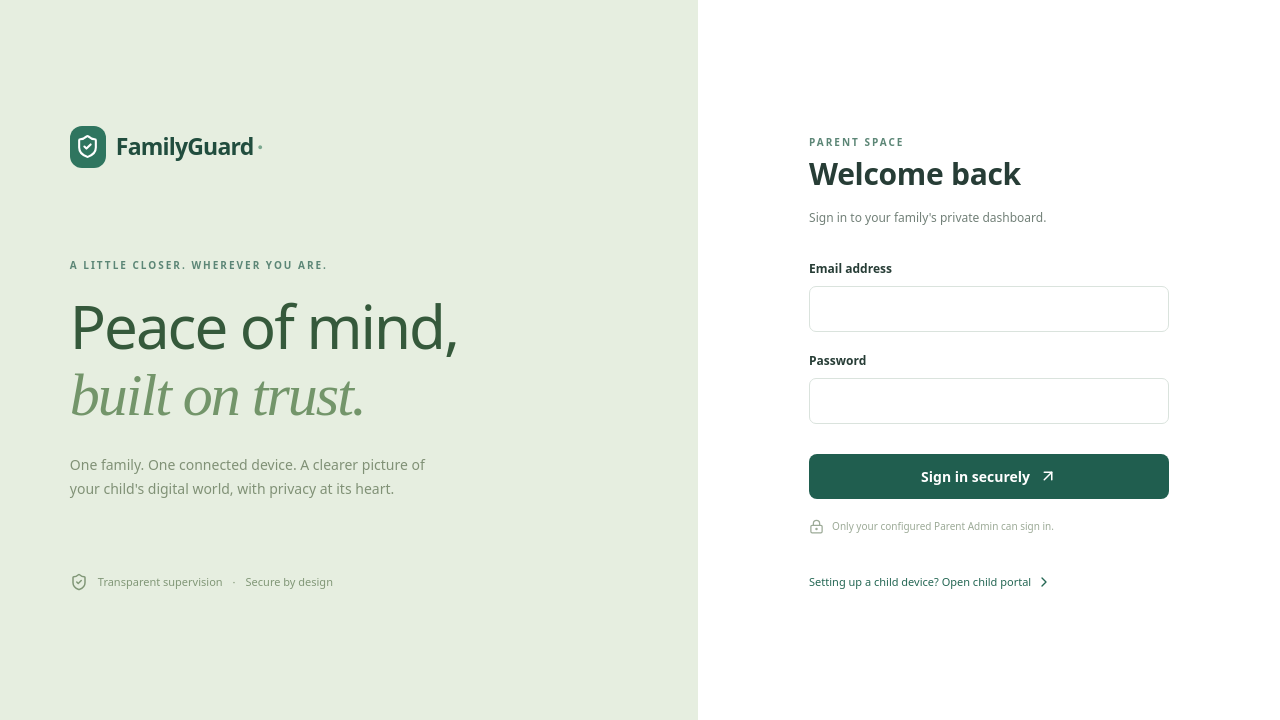
Test case: real interface workflows › submits parent credentials and handles network failure
This screenshot has width=1280, height=720.
Type "parent@example.test" into the field labelled "Email address" at (989, 309), box [809,286,1169,332]
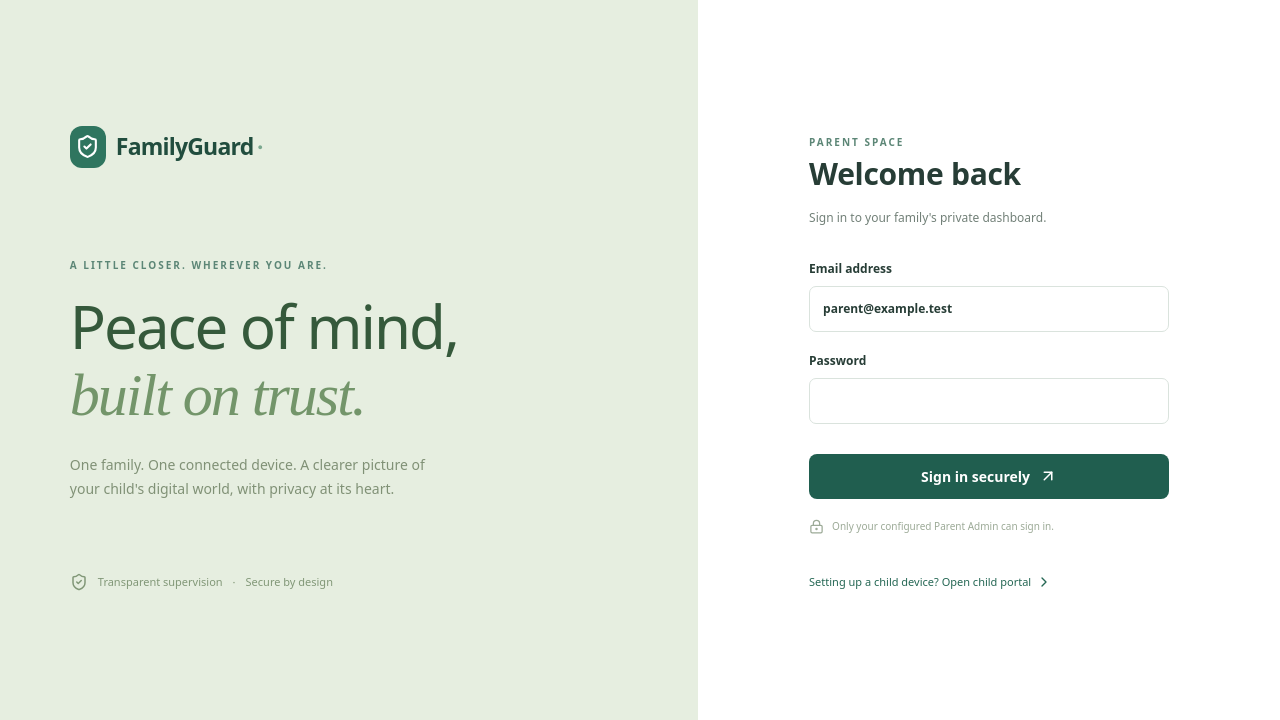
Type "test-only-password" into the password field labelled "Password" at (989, 401), box [809,378,1169,424]
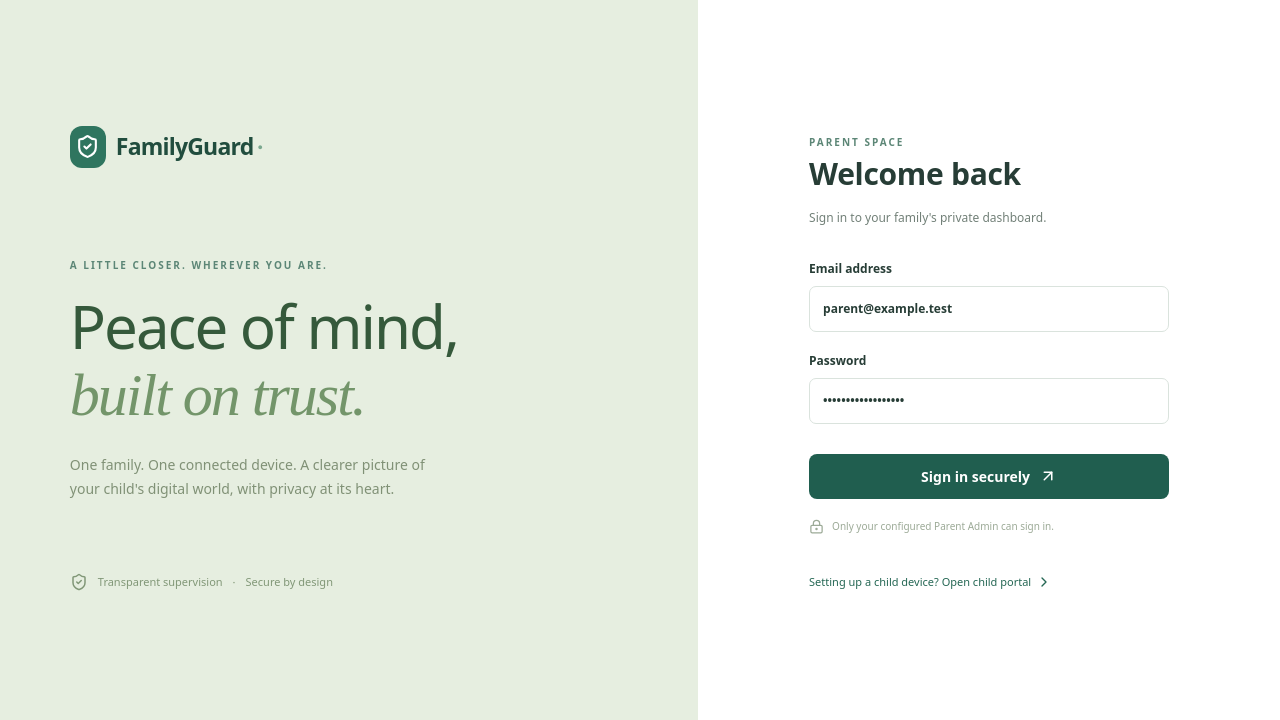
Click the button "Sign in securely" at (989, 476), box [809,454,1169,499]
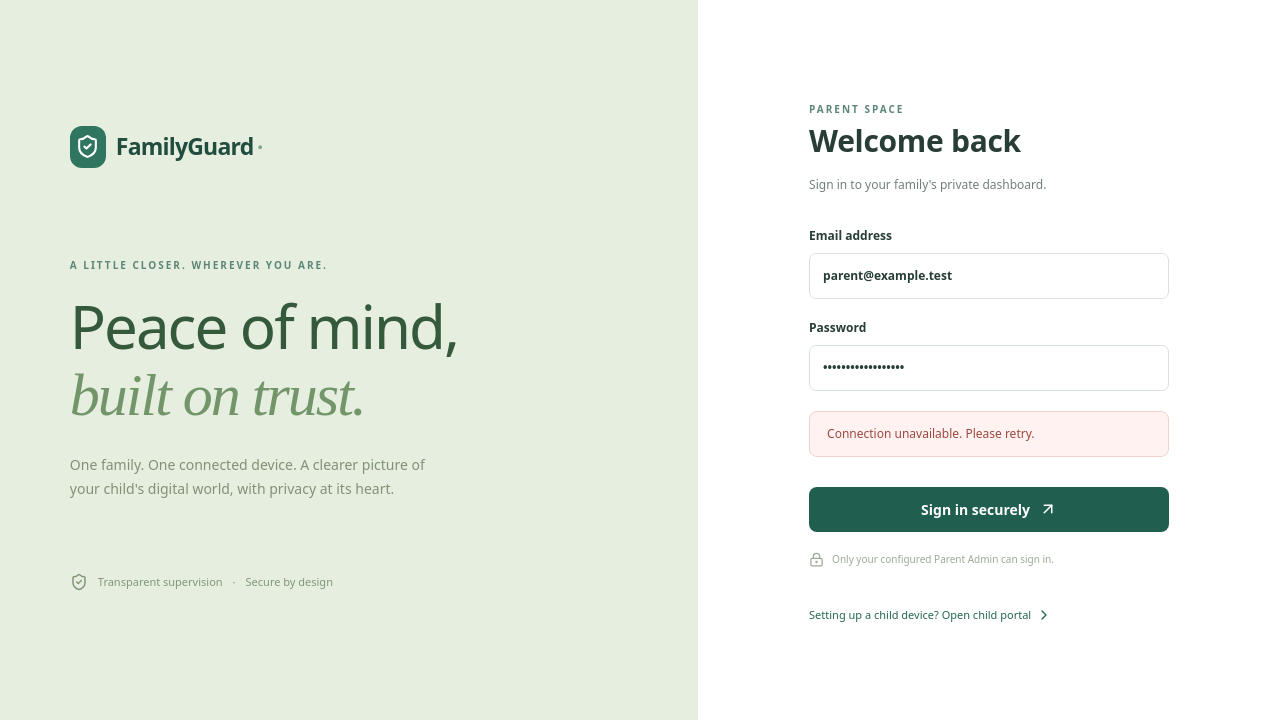
Check: the message "Connection unavailable. Please retry." is shown, box [809,411,1169,457]
